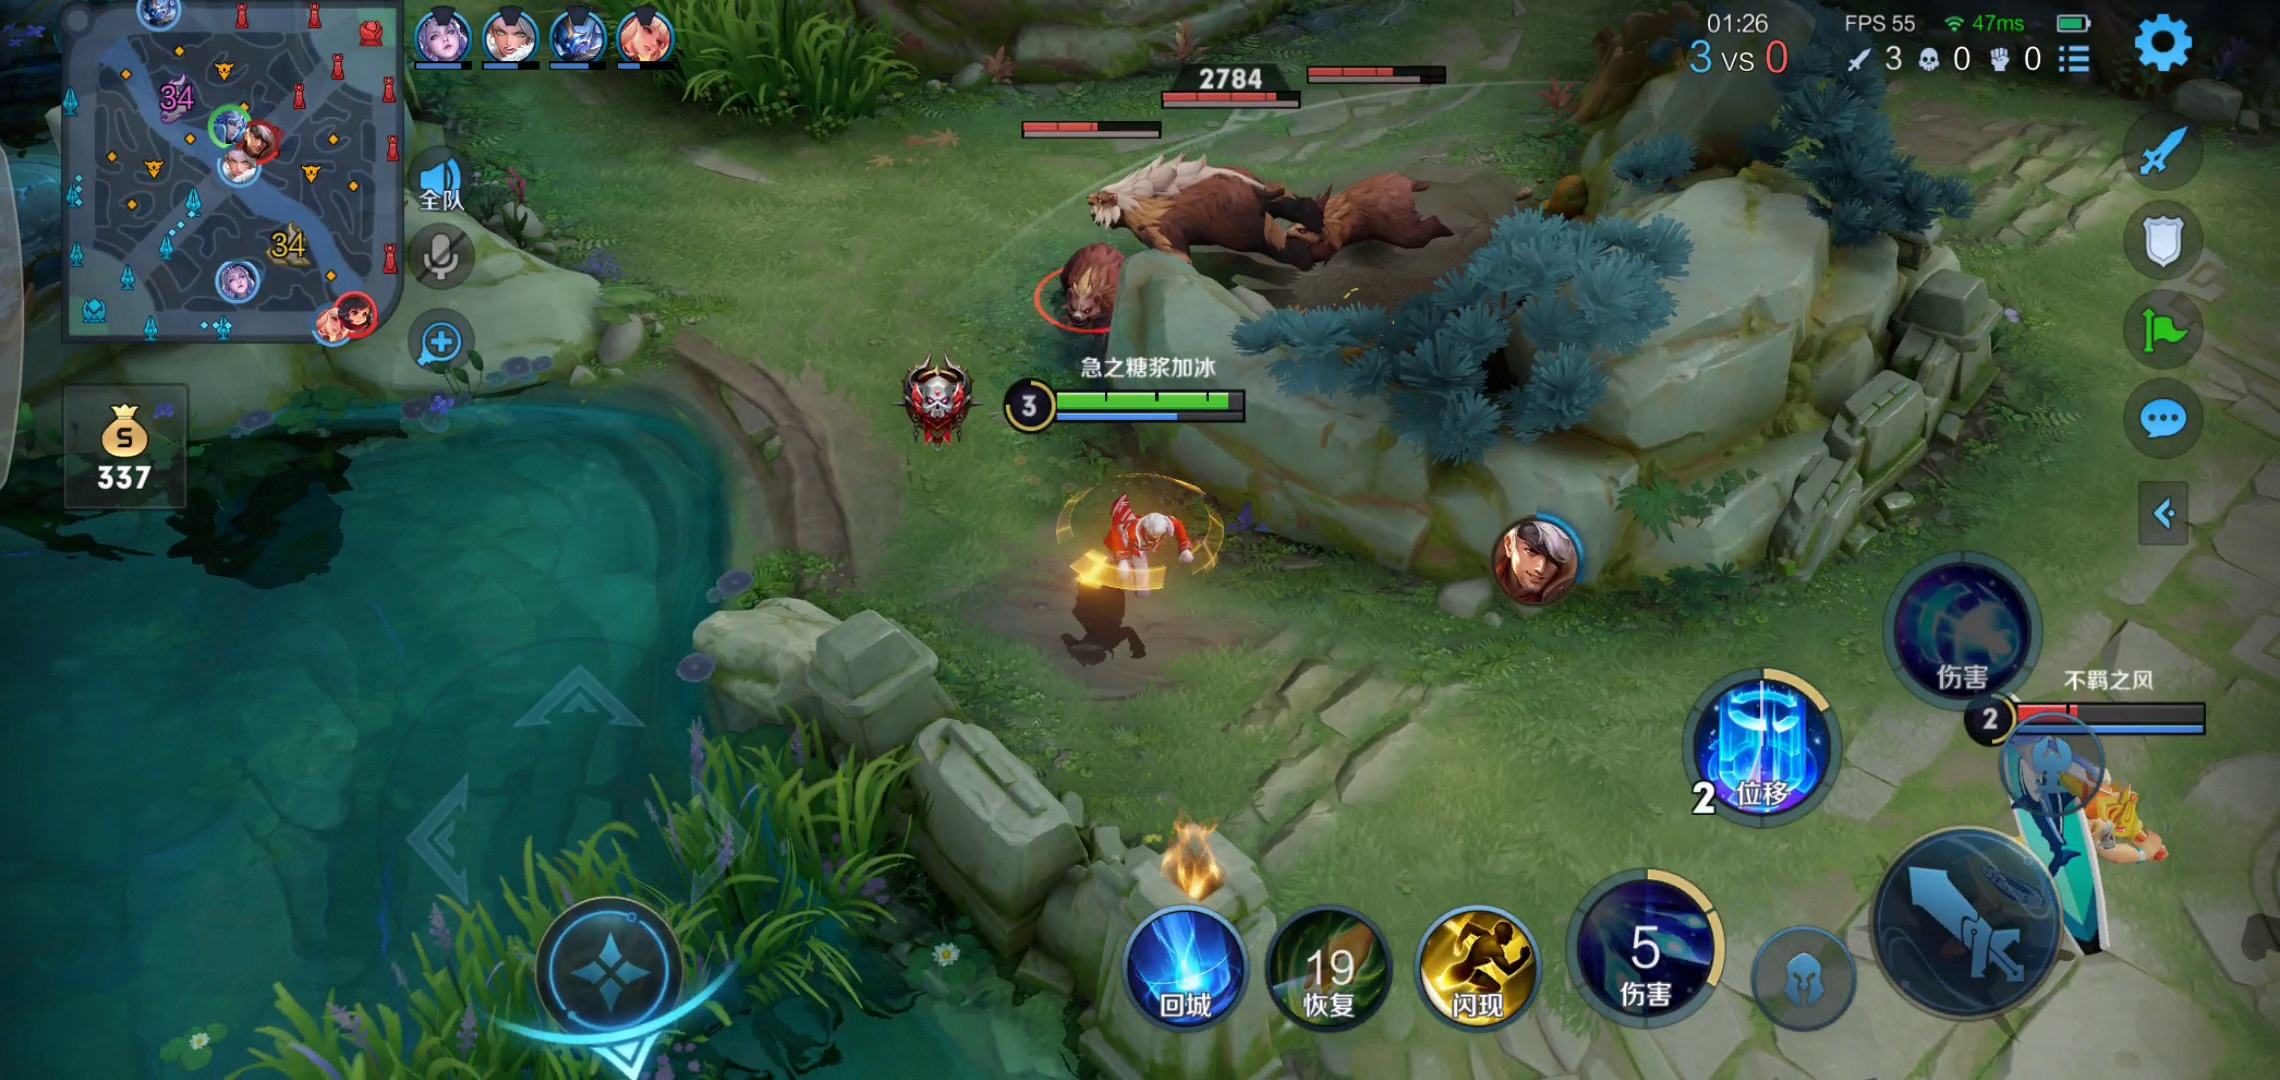grass: (137, 746, 982, 1073), (569, 1, 909, 144)
hero: (1970, 738, 2164, 961), (1040, 464, 1229, 629)
wild_monster: (1019, 84, 1426, 339)
